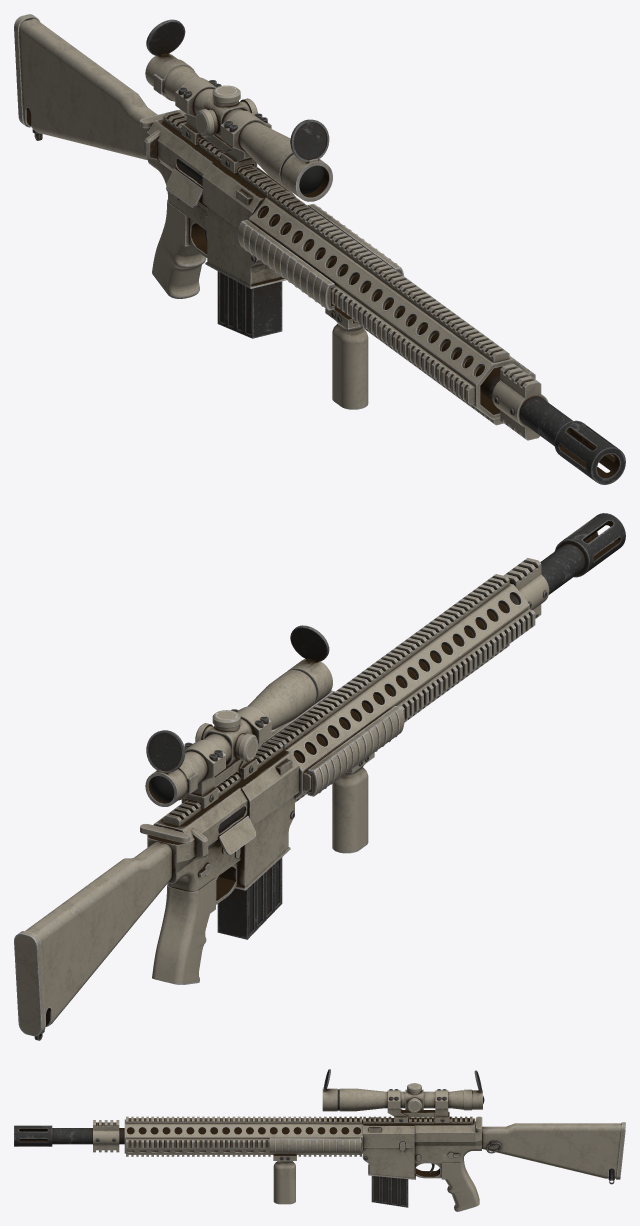
File: gun_m170.glb
The picture shows the model from 3 angles, top to bottom: view 1: azimuth 30°, elevation 25°; view 2: azimuth 150°, elevation 25°; view 3: azimuth 270°, elevation 25°; orthographic projection. The views are drawn at different scales.
Visible parts, largest first — view 1: Rail1Model_PaintedMetal3_0, HatchLidModel_PaintedMetal1_0, StockModel_PaintedMetal2_0, BarrelModel_PaintedMetal5_0, RailBodyModel_PaintedMetal4_0; view 2: Rail1Model_PaintedMetal3_0, HatchLidModel_PaintedMetal1_0, StockModel_PaintedMetal2_0, RailBodyModel_PaintedMetal4_0, BarrelModel_PaintedMetal5_0; view 3: HatchLidModel_PaintedMetal1_0, Rail1Model_PaintedMetal3_0, StockModel_PaintedMetal2_0, RailBodyModel_PaintedMetal4_0, BarrelModel_PaintedMetal5_0.
Boxes of the visible parts, x1,y1,x2,y2 form: Rail1Model_PaintedMetal3_0: (140,77,548,440); HatchLidModel_PaintedMetal1_0: (143,52,332,288); StockModel_PaintedMetal2_0: (14,14,403,310); BarrelModel_PaintedMetal5_0: (32,19,625,484); RailBodyModel_PaintedMetal4_0: (152,197,529,419); Rail1Model_PaintedMetal3_0: (140,558,549,853); HatchLidModel_PaintedMetal1_0: (145,658,332,904); StockModel_PaintedMetal2_0: (14,690,404,1036); RailBodyModel_PaintedMetal4_0: (152,583,529,984); BarrelModel_PaintedMetal5_0: (34,513,625,1040); HatchLidModel_PaintedMetal1_0: (322,1087,482,1179); Rail1Model_PaintedMetal3_0: (93,1083,482,1204); StockModel_PaintedMetal2_0: (269,1122,625,1179); RailBodyModel_PaintedMetal4_0: (124,1119,479,1211); BarrelModel_PaintedMetal5_0: (14,1069,614,1207).
Bounding box in the file's own units: 0.1636 × 0.5144 × 2.05.
Materials: 6 (5 with a texture image).
